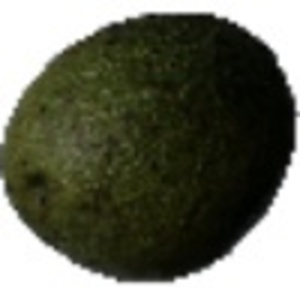abacate: (2, 6, 297, 283)
